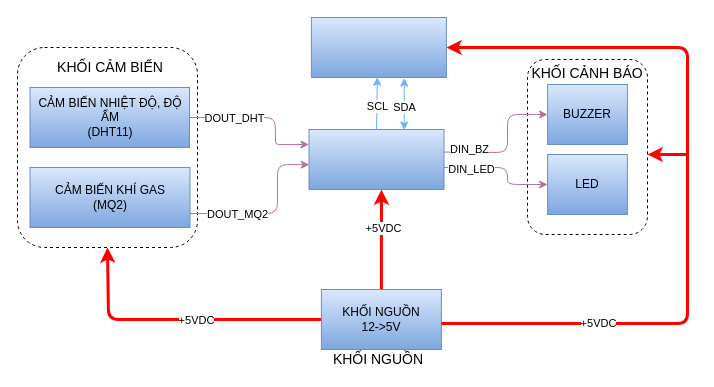
Some shapes in this 714 by 387 pixel diagram are drawn without their labels. The shapes that lost their labels are listed below. From the top down, each one's centre as x and y in pixels, then its label:
(378,47): KHỐI HIỂN THỊ (LCD1602 + I2C)
(376,159): KHỐI ĐIỀU KHIỂN (Node MCU ESP8266 CH340)
